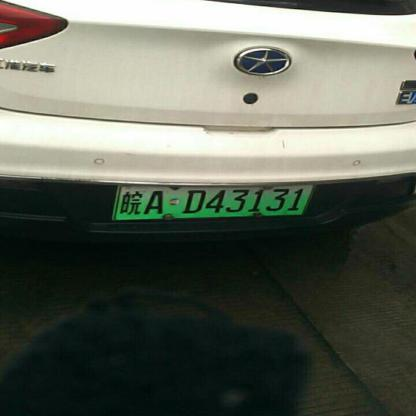lp: (112, 184, 317, 219)
